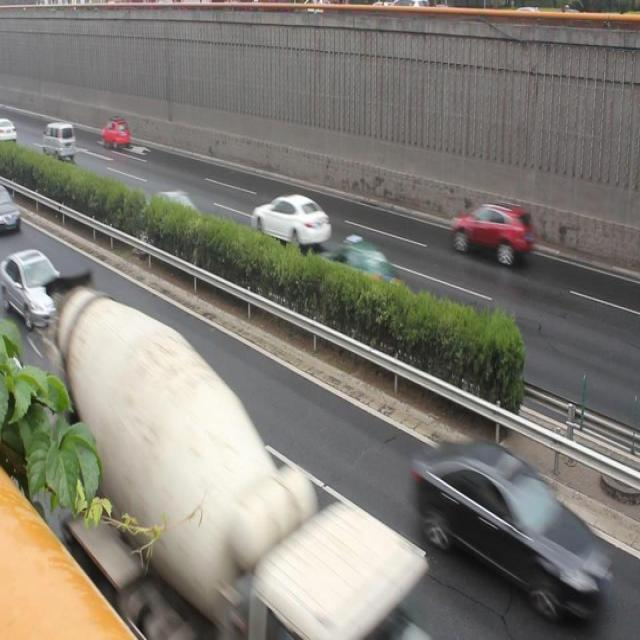bus: (61, 321, 421, 640)
car: (415, 433, 609, 617), (449, 194, 534, 268), (327, 234, 405, 301), (1, 245, 65, 326), (252, 192, 328, 251), (152, 184, 202, 231), (1, 184, 24, 237), (103, 115, 131, 153)
truck: (39, 120, 76, 170)
